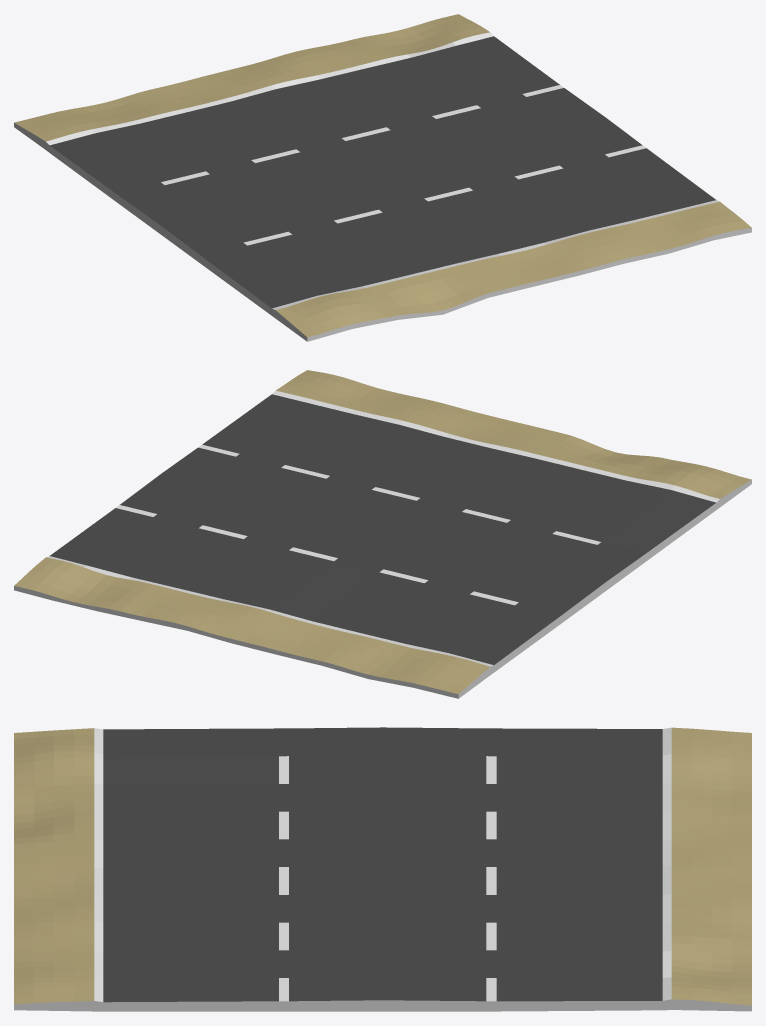
Rendered from road_chunk90.fbx.
The picture shows the model from 3 angles, top to bottom: view 1: azimuth 30°, elevation 25°; view 2: azimuth 150°, elevation 25°; view 3: azimuth 270°, elevation 25°; orthographic projection. The views are drawn at different scales.
Visible parts, largest first — view 1: Cube; view 2: Cube; view 3: Cube.
Part boxes in pixels (x1,y1,x2,y2): Cube: (14, 14, 751, 341); Cube: (14, 370, 751, 698); Cube: (14, 727, 751, 1011).
Bounding box in the file's own units: 894 × 34.67 × 1022.
